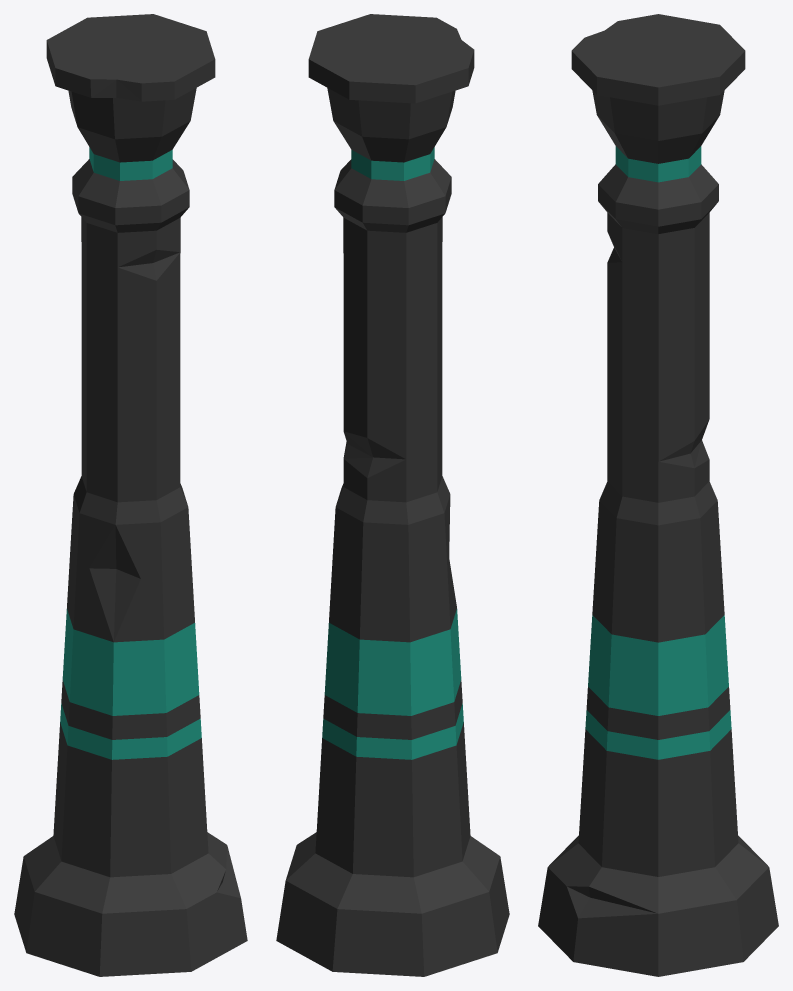
Rendered from Column_Tall_Broken01_FBX.fbx.
The picture shows the model from 3 angles, left to right: view 1: azimuth 30°, elevation 25°; view 2: azimuth 150°, elevation 25°; view 3: azimuth 270°, elevation 25°; orthographic projection.
Parts seen in each view (by area): view 1: Pillar004; view 2: Pillar004; view 3: Pillar004.
Boxes of the visible parts, bbox=[...] form: Pillar004: bbox=[14, 14, 247, 976]; Pillar004: bbox=[276, 14, 509, 976]; Pillar004: bbox=[538, 14, 778, 976].
Size of the model in its own units: 112 by 449 by 112.
